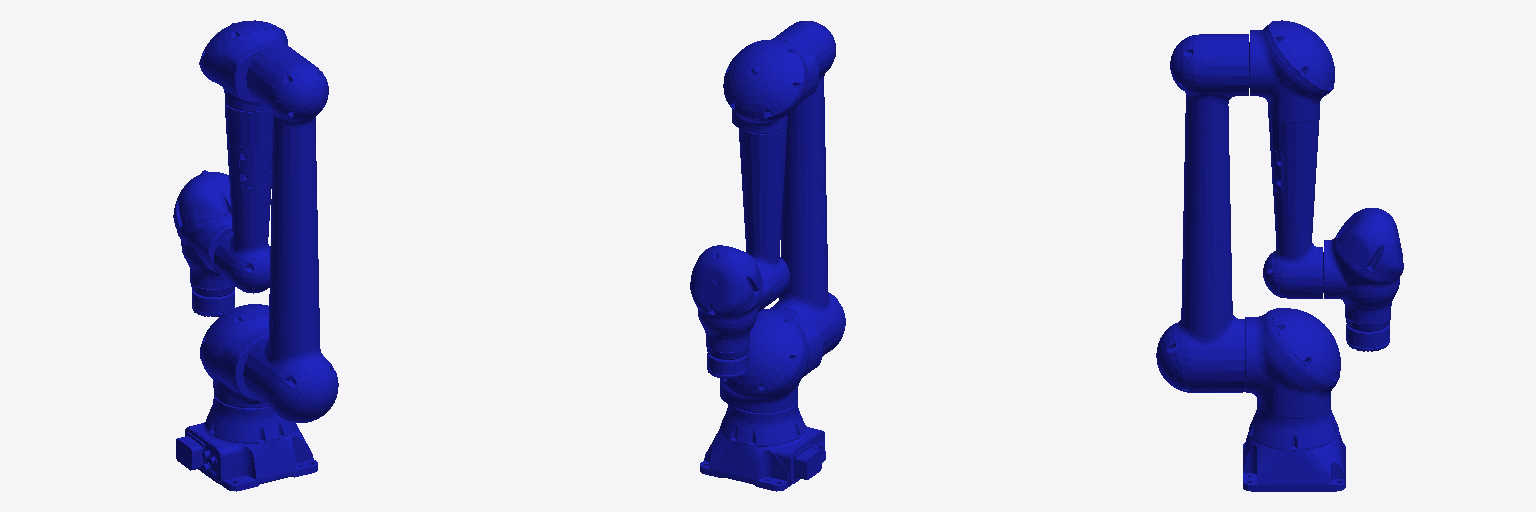
The robot description file, URDF, robot "motoman_hc10dt":
<?xml version="1.0" ?>
<!-- =================================================================================== -->
<!-- |    This document was autogenerated by xacro from hc10dt.xacro                   | -->
<!-- |    EDITING THIS FILE BY HAND IS NOT RECOMMENDED                                 | -->
<!-- =================================================================================== -->
<robot name="motoman_hc10dt">
  <!-- link list -->
  <link name="base_link">
    <visual>
      <geometry>
        <mesh filename="package://motoman_hc10_support/meshes/hc10/visual/base_link.dae"/>
      </geometry>
      <material name="">
        <color rgba="0.12941176470588237 0.14901960784313725 0.7490196078431373 1.0"/>
      </material>
    </visual>
    <collision>
      <geometry>
        <mesh filename="package://motoman_hc10_support/meshes/hc10/collision/base_link.stl"/>
      </geometry>
    </collision>
  </link>
  <link name="link_1_s">
    <visual>
      <geometry>
        <mesh filename="package://motoman_hc10_support/meshes/hc10/visual/link_1_s.dae"/>
      </geometry>
      <material name="">
        <color rgba="0.12941176470588237 0.14901960784313725 0.7490196078431373 1.0"/>
      </material>
    </visual>
    <collision>
      <geometry>
        <mesh filename="package://motoman_hc10_support/meshes/hc10/collision/link_1_s.stl"/>
      </geometry>
    </collision>
  </link>
  <link name="link_2_l">
    <visual>
      <geometry>
        <mesh filename="package://motoman_hc10_support/meshes/hc10/visual/link_2_l.dae"/>
      </geometry>
      <material name="">
        <color rgba="0.12941176470588237 0.14901960784313725 0.7490196078431373 1.0"/>
      </material>
    </visual>
    <collision>
      <geometry>
        <mesh filename="package://motoman_hc10_support/meshes/hc10/collision/link_2_l.stl"/>
      </geometry>
    </collision>
  </link>
  <link name="link_3_u">
    <visual>
      <geometry>
        <mesh filename="package://motoman_hc10_support/meshes/hc10/visual/link_3_u.dae"/>
      </geometry>
      <material name="">
        <color rgba="0.12941176470588237 0.14901960784313725 0.7490196078431373 1.0"/>
      </material>
    </visual>
    <collision>
      <geometry>
        <mesh filename="package://motoman_hc10_support/meshes/hc10/collision/link_3_u.stl"/>
      </geometry>
    </collision>
  </link>
  <link name="link_4_r">
    <visual>
      <geometry>
        <mesh filename="package://motoman_hc10_support/meshes/hc10/visual/link_4_r.dae"/>
      </geometry>
      <material name="">
        <color rgba="0.12941176470588237 0.14901960784313725 0.7490196078431373 1.0"/>
      </material>
    </visual>
    <collision>
      <geometry>
        <mesh filename="package://motoman_hc10_support/meshes/hc10/collision/link_4_r.stl"/>
      </geometry>
    </collision>
  </link>
  <link name="link_5_b">
    <visual>
      <geometry>
        <mesh filename="package://motoman_hc10_support/meshes/hc10/visual/link_5_b.dae"/>
      </geometry>
      <material name="">
        <color rgba="0.12941176470588237 0.14901960784313725 0.7490196078431373 1.0"/>
      </material>
    </visual>
    <collision>
      <geometry>
        <mesh filename="package://motoman_hc10_support/meshes/hc10/collision/link_5_b.stl"/>
      </geometry>
    </collision>
  </link>
  <link name="link_6_t">
    <visual>
      <geometry>
        <mesh filename="package://motoman_hc10_support/meshes/hc10dt/visual/link_6_t.dae"/>
      </geometry>
      <material name="">
        <color rgba="0.12941176470588237 0.14901960784313725 0.7490196078431373 1.0"/>
      </material>
    </visual>
    <collision>
      <geometry>
        <mesh filename="package://motoman_hc10_support/meshes/hc10dt/collision/link_6_t.stl"/>
      </geometry>
    </collision>
  </link>
  <link name="tool0"/>
  <!-- end of link list -->
  <!-- joint list -->
  <joint name="joint_1_s" type="revolute">
    <parent link="base_link"/>
    <child link="link_1_s"/>
    <origin rpy="0 0 0" xyz="0 0 0.275"/>
    <axis xyz="0 0 1"/>
    <limit effort="368.48" lower="-3.141592653589793" upper="3.141592653589793" velocity="2.2689280275926285"/>
  </joint>
  <joint name="joint_2_l" type="revolute">
    <parent link="link_1_s"/>
    <child link="link_2_l"/>
    <origin rpy="0 0 0" xyz="0 0 0"/>
    <axis xyz="0 1 0"/>
    <limit effort="368.48" lower="-3.141592653589793" upper="3.141592653589793" velocity="2.2689280275926285"/>
  </joint>
  <joint name="joint_3_u" type="revolute">
    <parent link="link_2_l"/>
    <child link="link_3_u"/>
    <origin rpy="0 0 0" xyz="0 0 0.700"/>
    <axis xyz="0 -1 0"/>
    <limit effort="141.12" lower="-0.08726646259971647" upper="6.19591884457987" velocity="3.141592653589793"/>
  </joint>
  <joint name="joint_4_r" type="revolute">
    <parent link="link_3_u"/>
    <child link="link_4_r"/>
    <origin rpy="0 0 0" xyz="0 0 -0.500"/>
    <axis xyz="0 0 1"/>
    <limit effort="39.20" lower="-3.141592653589793" upper="3.141592653589793" velocity="3.141592653589793"/>
  </joint>
  <joint name="joint_5_b" type="revolute">
    <parent link="link_4_r"/>
    <child link="link_5_b"/>
    <origin rpy="0 0 0" xyz="0 0.162 0"/>
    <axis xyz="0 -1 0"/>
    <limit effort="31.36" lower="-3.141592653589793" upper="3.141592653589793" velocity="4.363323129985824"/>
  </joint>
  <joint name="joint_6_t" type="revolute">
    <parent link="link_5_b"/>
    <child link="link_6_t"/>
    <origin rpy="0 0 0" xyz="0 0 0"/>
    <axis xyz="0 0 1"/>
    <limit effort="31.36" lower="-3.141592653589793" upper="3.141592653589793" velocity="4.363323129985824"/>
  </joint>
  <joint name="joint_6_t-tool0" type="fixed">
    <origin rpy="3.141592653589793 0 0" xyz="0 0 -0.170"/>
    <parent link="link_6_t"/>
    <child link="tool0"/>
  </joint>
  <!-- end of joint list -->
  <!-- ROS base_link to Robot Manufacturer World Coordinates transform -->
  <link name="base"/>
  <joint name="base_link-base" type="fixed">
    <origin rpy="0 0 0" xyz="0 0 0.275"/>
    <parent link="base_link"/>
    <child link="base"/>
  </joint>
</robot>


--- What the picture shows (computed from the rendered views, not written in the file) ---
Views: 3 orthographic renders of the robot side by side, from view 1: azimuth 30°, elevation 25°; view 2: azimuth 150°, elevation 25°; view 3: azimuth 270°, elevation 25°.
Robot: motoman_hc10dt — 9 links, 8 joints (6 revolute, 2 fixed); root link base_link; default pose: all joints at 0.
Visible links, largest first — view 1: link_2_l, base_link, link_4_r, link_5_b, link_1_s, link_3_u, link_6_t; view 2: link_2_l, base_link, link_1_s, link_3_u, link_5_b, link_4_r, link_6_t; view 3: link_2_l, link_1_s, link_4_r, base_link, link_5_b, link_3_u, link_6_t.
Link boxes in pixels (box(x1,y1,x2,y2)): link_2_l: box(243, 44, 338, 422); base_link: box(176, 396, 317, 491); link_4_r: box(213, 103, 272, 293); link_5_b: box(173, 170, 232, 289); link_1_s: box(200, 304, 268, 407); link_3_u: box(199, 20, 290, 111); link_6_t: box(190, 281, 234, 316); link_2_l: box(770, 21, 845, 356); base_link: box(700, 400, 825, 491); link_1_s: box(720, 308, 822, 412); link_3_u: box(723, 39, 818, 133); link_5_b: box(690, 245, 773, 352); link_4_r: box(739, 126, 789, 305); link_6_t: box(706, 345, 749, 378); link_2_l: box(1156, 34, 1248, 392); link_1_s: box(1245, 308, 1340, 418); link_4_r: box(1263, 111, 1322, 298); base_link: box(1243, 402, 1345, 491); link_5_b: box(1323, 208, 1403, 323); link_3_u: box(1249, 20, 1334, 122); link_6_t: box(1345, 316, 1390, 351).
Size in the robot's own frame: 0.2646 by 0.5404 by 1.07 metres.
7 mesh visuals loaded from 7 distinct referenced files (7 Collada DAE).